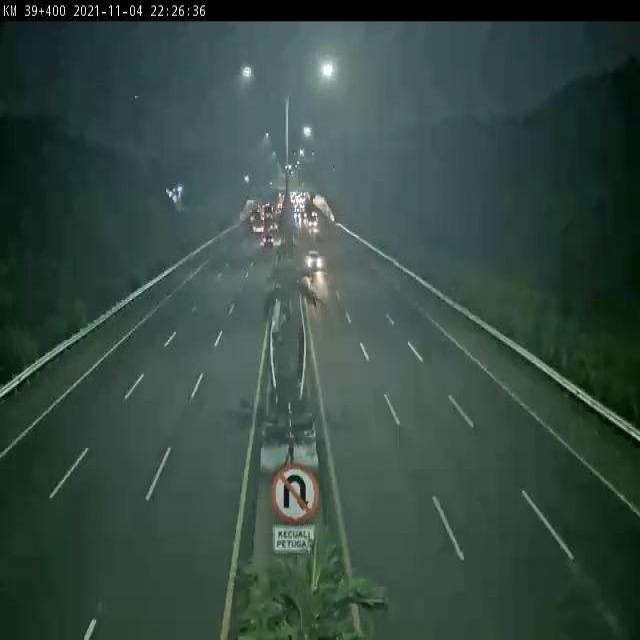car: (302, 248, 329, 275), (261, 231, 278, 253)
